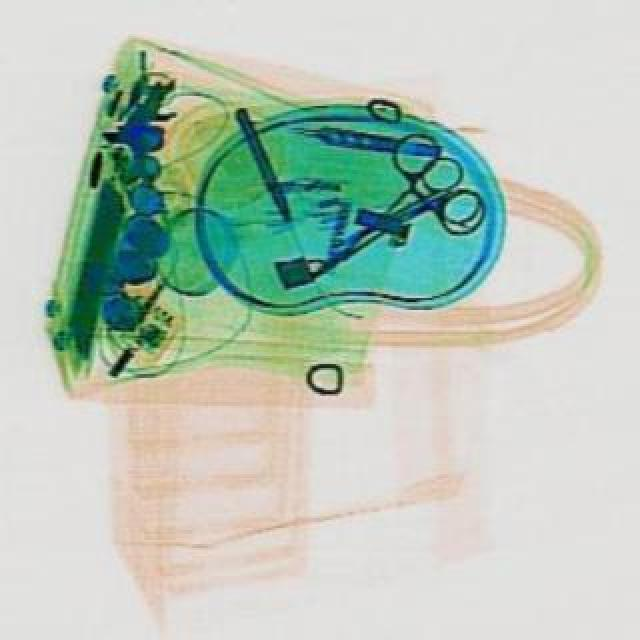pliers: (262, 128, 498, 324), (334, 150, 502, 282)
